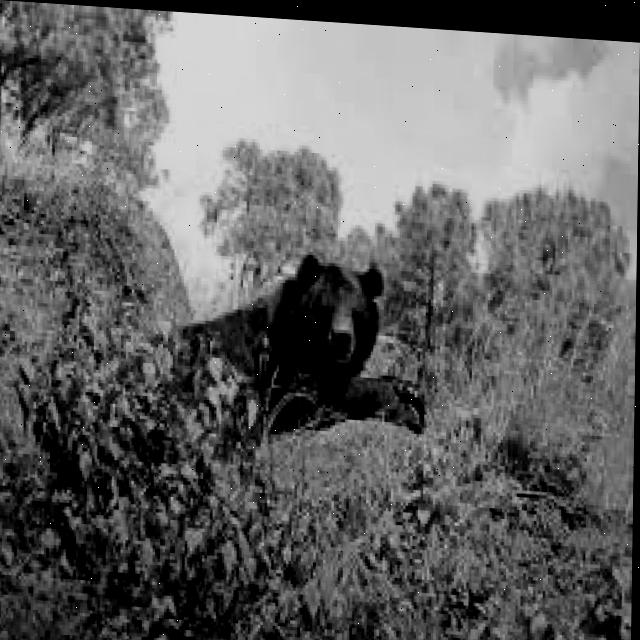Bear: (152, 245, 438, 447)
